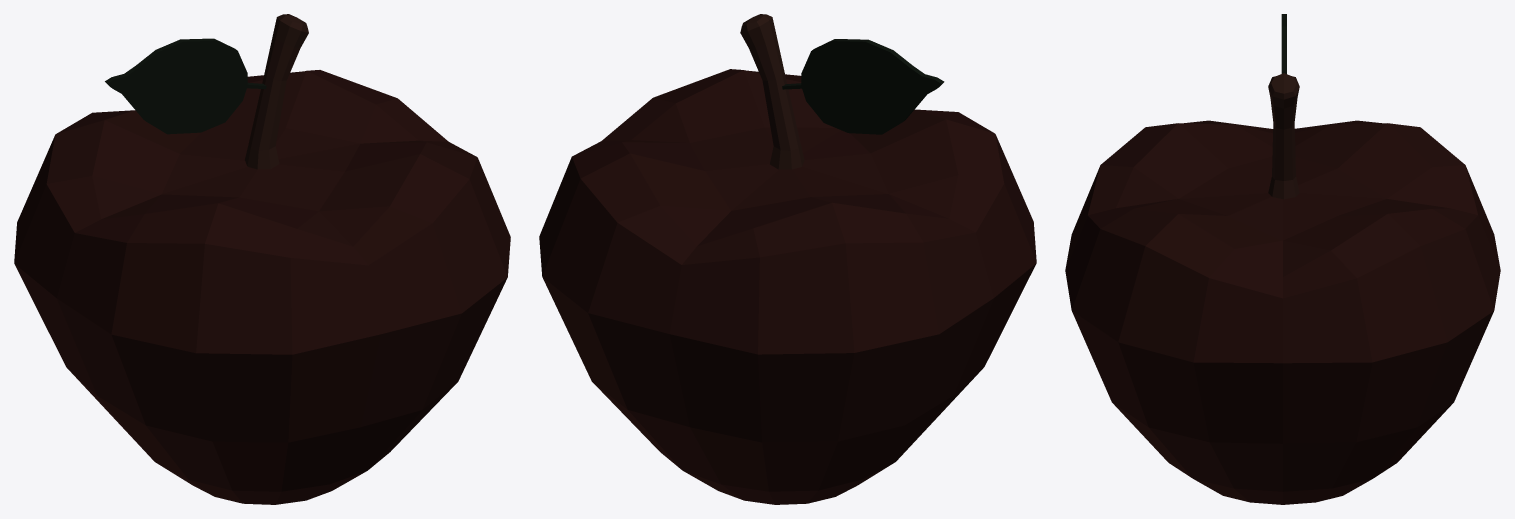
File: Apple.obj
The picture shows the model from 3 angles, left to right: view 1: azimuth 30°, elevation 25°; view 2: azimuth 150°, elevation 25°; view 3: azimuth 270°, elevation 25°; orthographic projection. The views are drawn at different scales.
Visible parts, largest first — view 1: Apple_Cube.020; view 2: Apple_Cube.020; view 3: Apple_Cube.020.
Part boxes in pixels (x1,y1,x2,y2): Apple_Cube.020: (14, 14, 510, 504); Apple_Cube.020: (539, 14, 1036, 504); Apple_Cube.020: (1065, 14, 1500, 504).
Size of the model in its own units: 0.8025 by 0.8517 by 0.7987.
